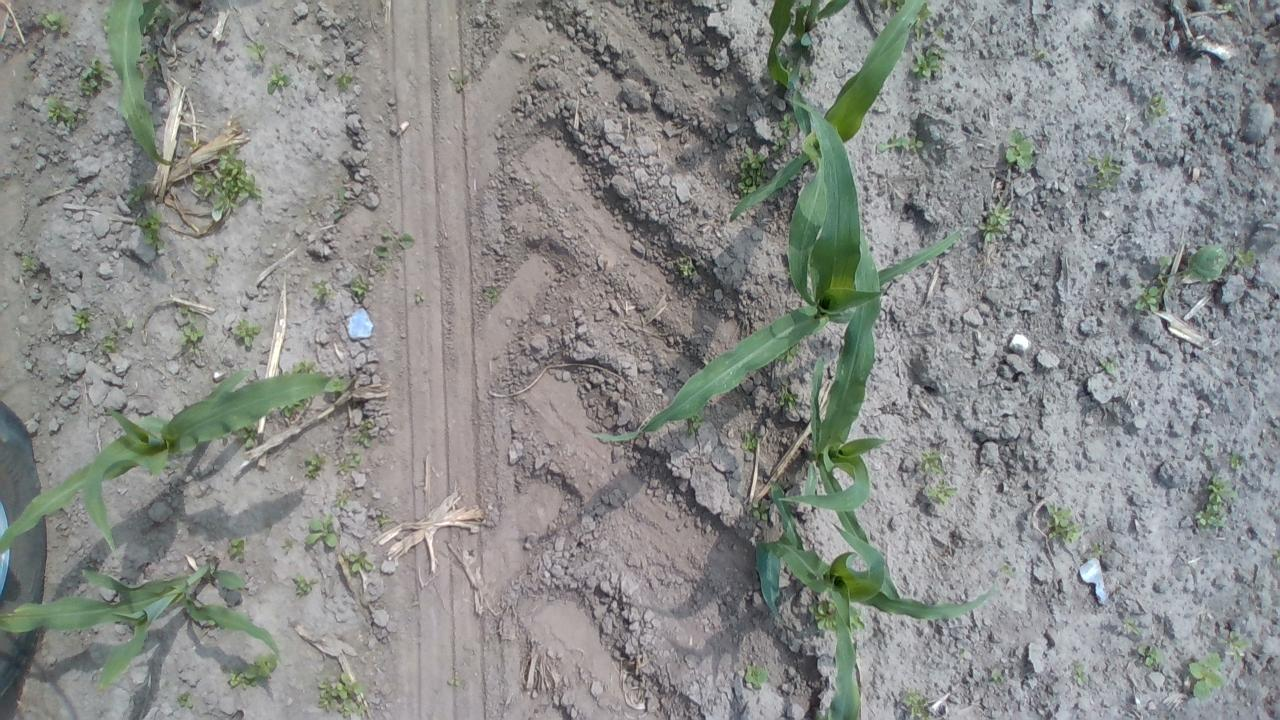Maize: (589, 94, 963, 446), (0, 364, 332, 552), (758, 481, 992, 720), (780, 234, 904, 604), (728, 0, 928, 222), (0, 560, 280, 688), (107, 0, 202, 168), (766, 0, 852, 89)
Weeds: (183, 136, 266, 222), (1153, 244, 1229, 294), (316, 671, 369, 718), (1182, 648, 1226, 699), (222, 652, 280, 688), (1195, 478, 1235, 530), (373, 228, 416, 273), (738, 146, 772, 197), (174, 306, 208, 354), (1046, 502, 1082, 544), (47, 94, 88, 130), (1087, 152, 1123, 192), (1004, 129, 1038, 170), (976, 206, 1014, 242), (78, 56, 112, 96), (135, 206, 165, 248), (911, 47, 946, 80), (901, 687, 934, 720), (772, 109, 796, 154), (308, 514, 337, 550), (30, 8, 70, 34), (1134, 280, 1166, 312), (808, 600, 838, 634), (878, 133, 926, 153), (230, 318, 262, 348), (926, 480, 959, 507), (1222, 630, 1248, 662), (1136, 642, 1165, 670), (302, 451, 328, 481), (141, 47, 163, 82), (266, 62, 290, 94), (742, 662, 769, 690), (336, 450, 365, 476), (919, 450, 946, 477), (352, 418, 376, 448), (310, 278, 337, 304), (686, 410, 710, 439), (294, 574, 320, 600), (446, 63, 471, 90), (777, 384, 802, 411), (1145, 93, 1169, 121), (345, 552, 373, 576), (245, 39, 271, 64), (223, 535, 246, 561), (335, 189, 353, 221), (776, 343, 800, 365), (738, 430, 764, 450), (280, 397, 304, 418), (71, 308, 91, 332), (752, 498, 772, 522), (1234, 246, 1255, 268), (292, 360, 322, 375), (1100, 354, 1120, 376), (326, 375, 350, 393), (848, 604, 864, 631), (679, 256, 697, 280), (242, 424, 258, 450), (100, 334, 120, 354), (176, 688, 194, 710), (352, 274, 369, 297), (154, 4, 170, 28), (1123, 616, 1142, 636), (334, 488, 352, 508), (126, 184, 146, 202), (1072, 663, 1089, 684), (800, 66, 815, 88), (780, 55, 796, 74), (336, 71, 352, 90), (280, 534, 296, 552), (879, 0, 905, 11), (376, 512, 393, 528), (915, 21, 929, 40), (485, 286, 498, 306), (919, 5, 936, 20), (21, 254, 35, 271), (991, 672, 1006, 686), (1225, 454, 1241, 467), (1032, 47, 1048, 60), (999, 564, 1013, 578), (1090, 542, 1104, 556), (934, 26, 946, 42), (447, 676, 462, 688), (144, 17, 155, 33), (126, 318, 137, 334), (104, 6, 110, 33), (814, 710, 828, 720), (1272, 548, 1280, 564), (1224, 1, 1234, 12), (207, 254, 217, 264), (416, 291, 424, 303), (319, 72, 329, 81), (176, 448, 187, 455), (803, 0, 812, 8), (0, 34, 7, 44), (959, 648, 966, 656)
